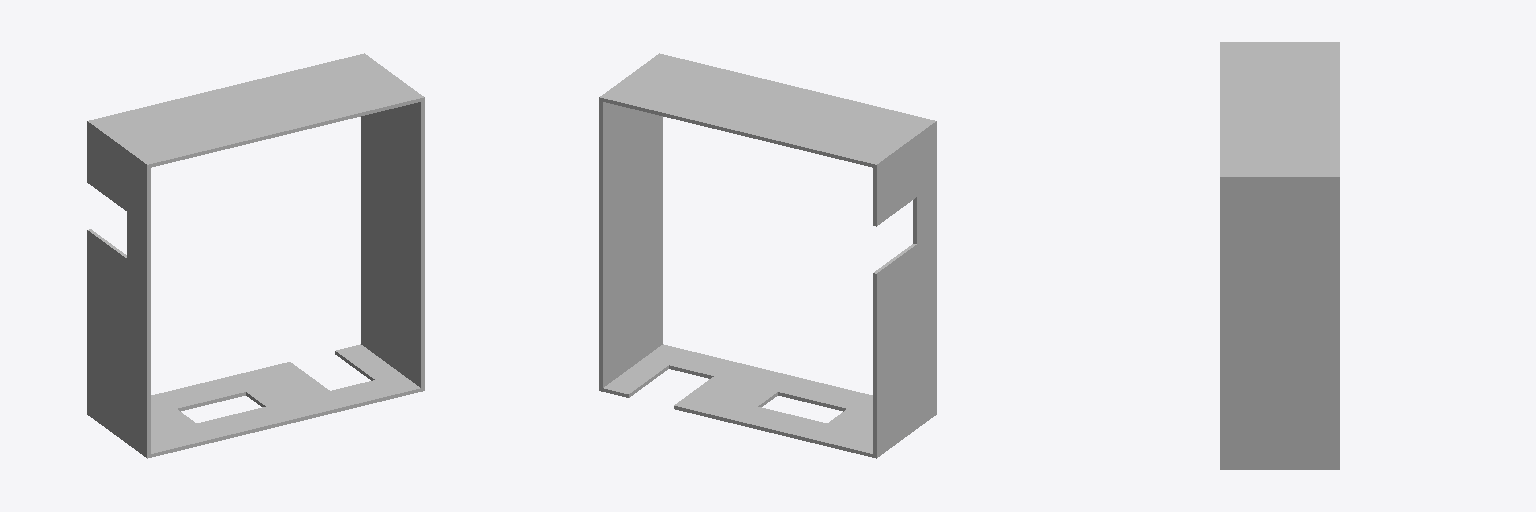
The model's file is walls.obj.
The picture shows the model from 3 angles: view 1: azimuth 30°, elevation 25°; view 2: azimuth 150°, elevation 25°; view 3: azimuth 270°, elevation 25°; orthographic projection.
Parts seen in each view (by area): view 1: Cube.003; view 2: Cube.003; view 3: Cube.003.
Boxes of the visible parts, <box> form: Cube.003: <box>87,53,424,458</box>; Cube.003: <box>599,53,936,458</box>; Cube.003: <box>1220,42,1339,469</box>.
Size of the model in its own units: 8 by 8.1 by 3.